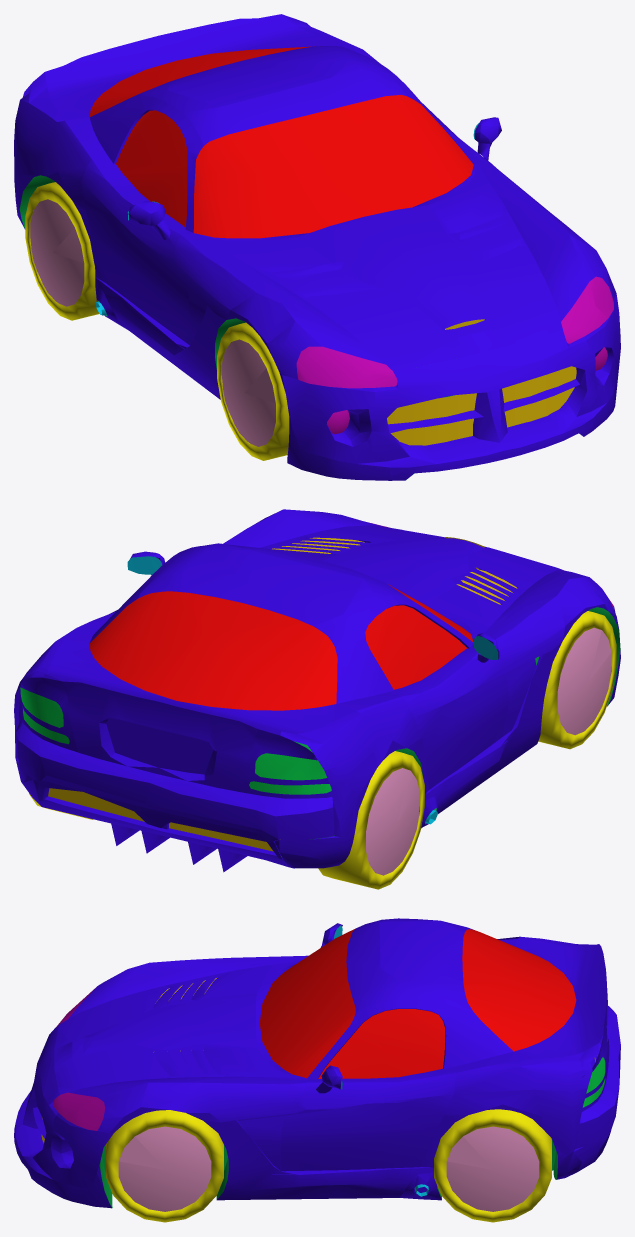
Rendered from Car11_Low_ColorCoded.fbx.
3 renders of one model, top to bottom at view 1: azimuth 30°, elevation 25°; view 2: azimuth 150°, elevation 25°; view 3: azimuth 270°, elevation 25°, orthographic. The views are drawn at different scales.
Visible parts, largest first — view 1: carBody_low, tireFrontR_low, tireBackR_low; view 2: carBody_low, tireBackR_low, tireFrontR_low; view 3: carBody_low, tireBackL_low, tireFrontL_low.
Boxes of the visible parts, box(x1,y1,x2,y2) form: carBody_low: box(14, 14, 620, 480); tireFrontR_low: box(217, 322, 289, 460); tireBackR_low: box(25, 182, 99, 320); carBody_low: box(14, 509, 620, 872); tireBackR_low: box(318, 751, 424, 889); tireFrontR_low: box(538, 611, 616, 749); carBody_low: box(14, 918, 620, 1208); tireBackL_low: box(434, 1109, 551, 1222); tireFrontL_low: box(106, 1110, 223, 1222).
Size of the model in its own units: 69.45 by 115 by 42.52.
